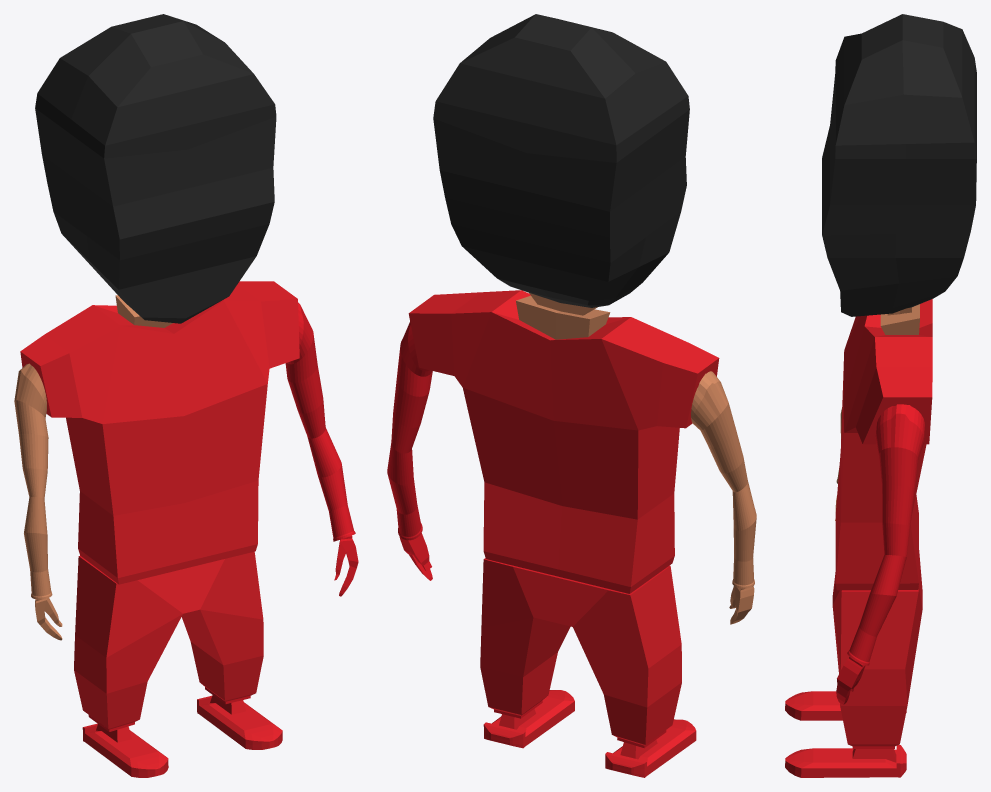
File: DusmanKarakter.fbx
The picture shows the model from 3 angles, left to right: view 1: azimuth 30°, elevation 25°; view 2: azimuth 150°, elevation 25°; view 3: azimuth 270°, elevation 25°; orthographic projection. The views are drawn at different scales.
Visible parts, largest first — view 1: Karakter; view 2: Karakter; view 3: Karakter.
Part boxes in pixels (left/top/right/bottom): Karakter: left=14, top=14, right=358, bottom=777; Karakter: left=387, top=14, right=756, bottom=777; Karakter: left=785, top=14, right=976, bottom=777.
Size of the model in its own units: 123 by 246 by 59.98.
